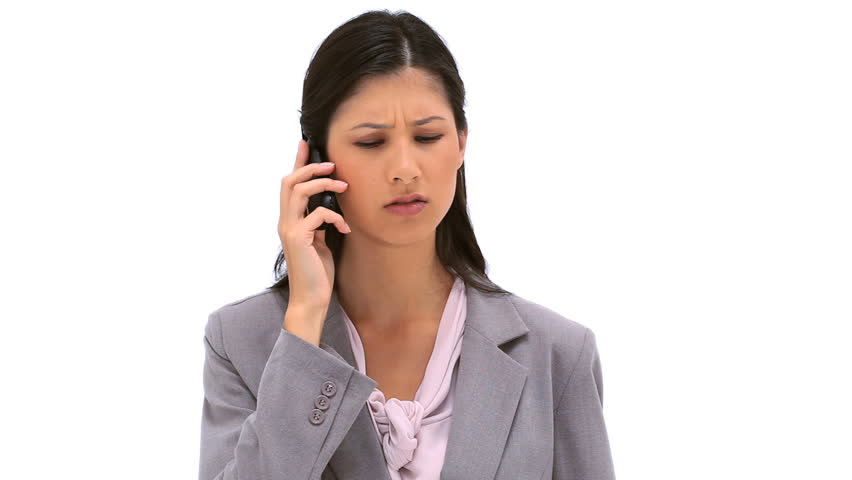phone: (290, 123, 351, 263)
talk: (274, 100, 458, 335)
